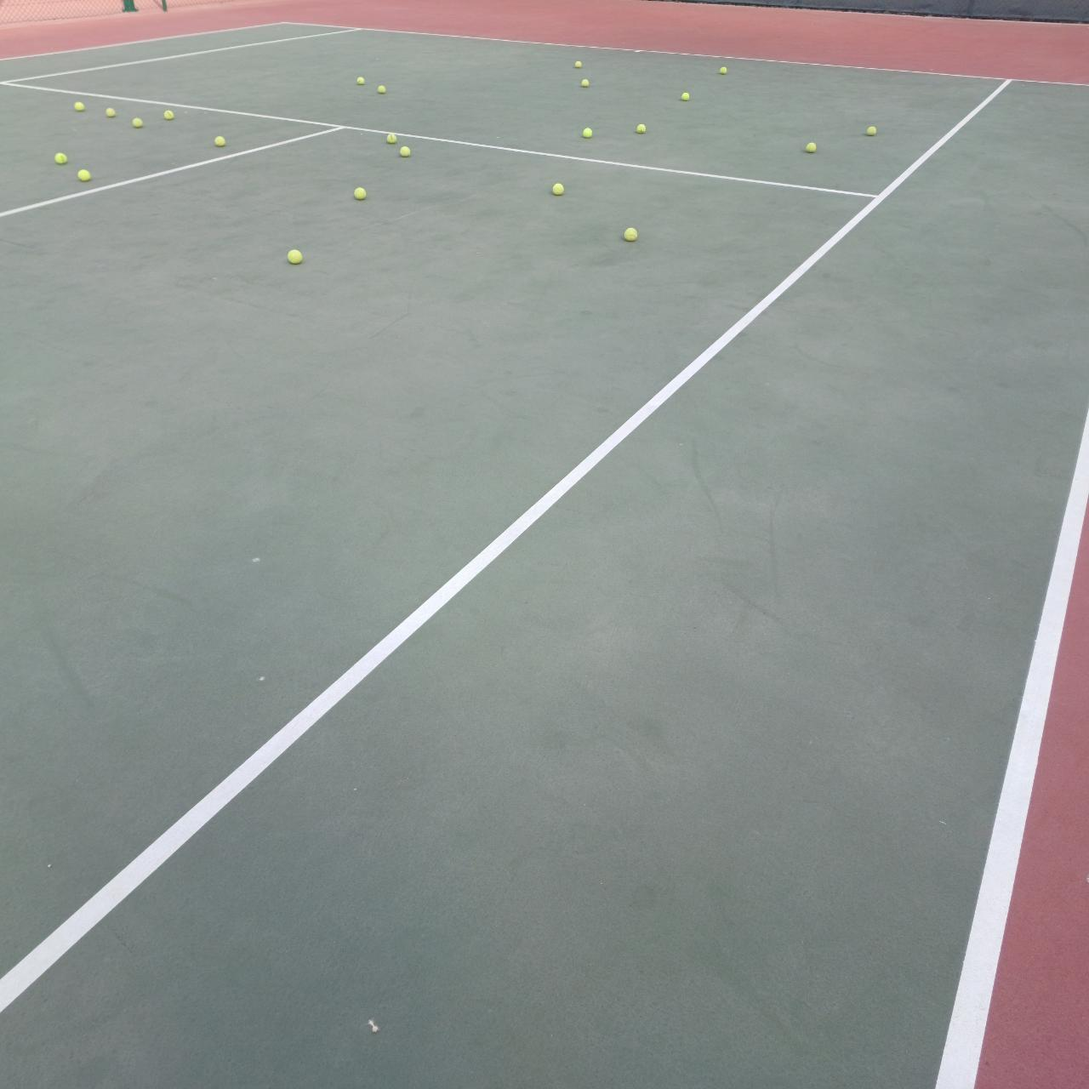tennis-ball: (286, 247, 302, 264), (622, 225, 638, 242), (76, 167, 92, 182), (352, 185, 367, 200), (550, 181, 564, 195), (213, 134, 225, 147), (54, 153, 67, 165), (806, 142, 818, 153), (105, 107, 116, 118), (582, 127, 593, 138), (132, 118, 143, 128), (74, 102, 85, 112), (400, 147, 411, 157), (867, 126, 877, 136), (164, 110, 174, 120), (387, 134, 397, 144), (637, 123, 646, 134), (377, 85, 386, 94), (681, 92, 689, 101), (581, 79, 589, 88), (357, 77, 365, 85), (719, 67, 727, 75), (575, 61, 582, 68)
